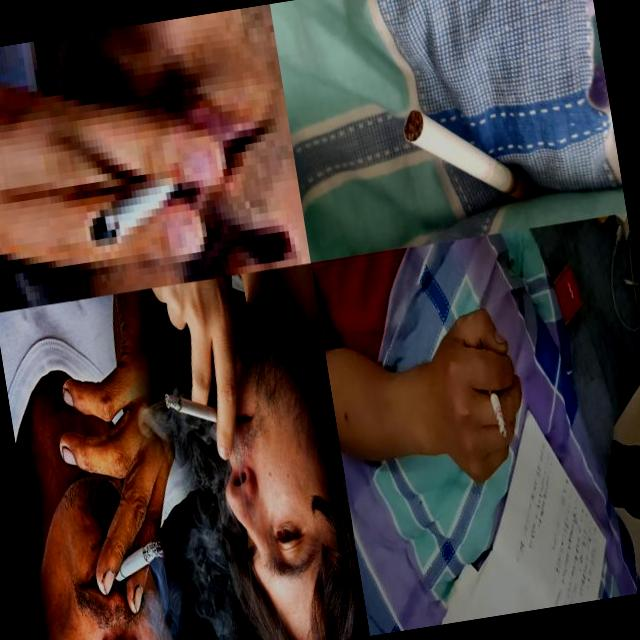cigarette: (397, 91, 543, 220), (81, 190, 191, 255), (162, 381, 236, 438), (108, 538, 166, 584), (484, 376, 508, 440)
